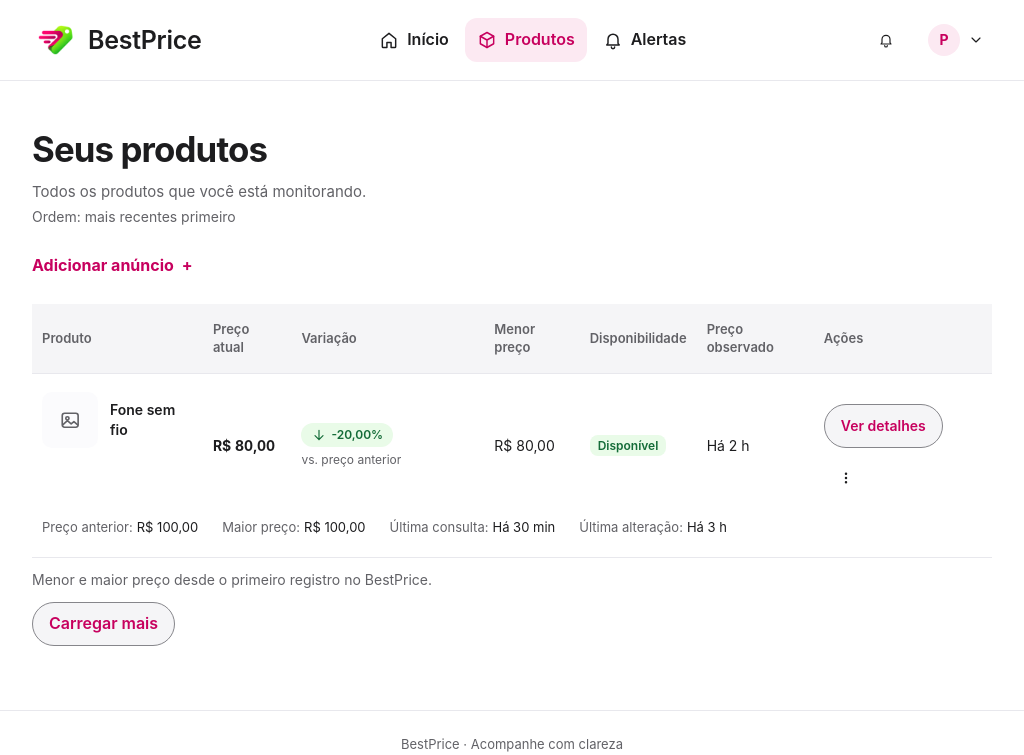
it: tabela Seus produtos › acrescenta a página seguinte sem repetir IDs e esconde Carregar mais sem cursor
Expected: the navigation bar named "Principal" is shown, [367, 18, 698, 62]
Click the button named "Carregar mais produtos" at [104, 624], box [32, 602, 175, 646]
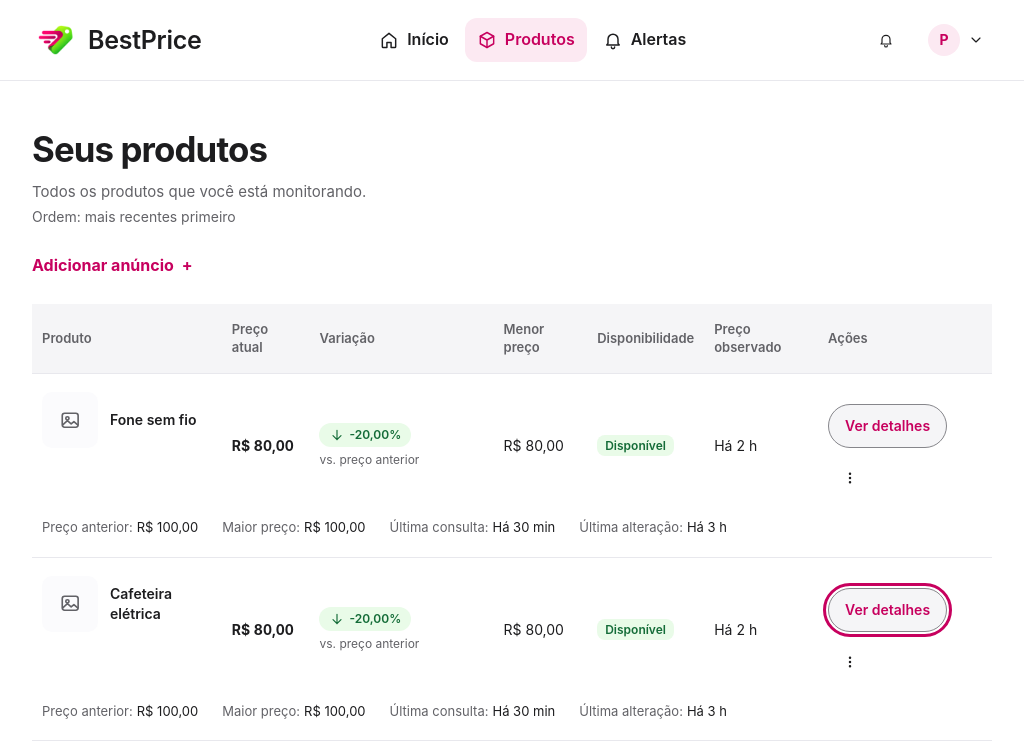
Expected: the button "Carregar mais produtos" is not shown
Expected: the table "Cafeteira elétrica" is shown, [32, 557, 992, 741]
Expected: the number of tables "Fone sem fio" is 1, [32, 373, 992, 557]
